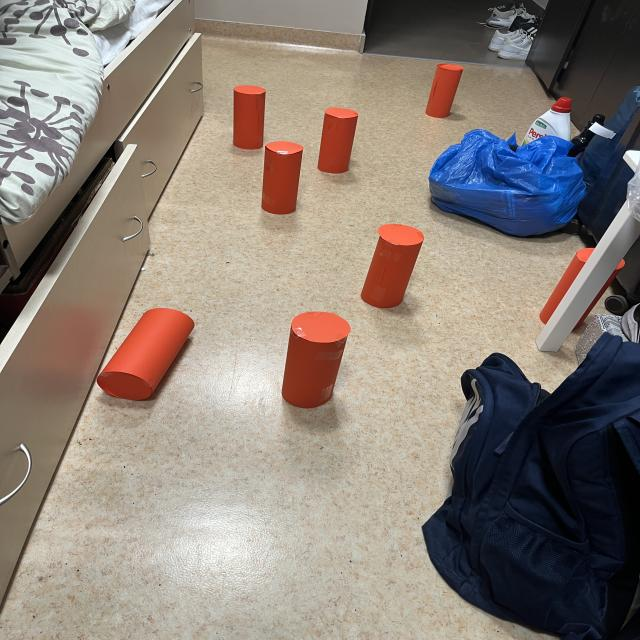przeszkoda: (97, 308, 194, 400), (282, 311, 350, 408), (361, 224, 424, 308), (261, 141, 303, 214), (318, 108, 358, 173), (233, 86, 265, 149), (426, 64, 463, 118)
